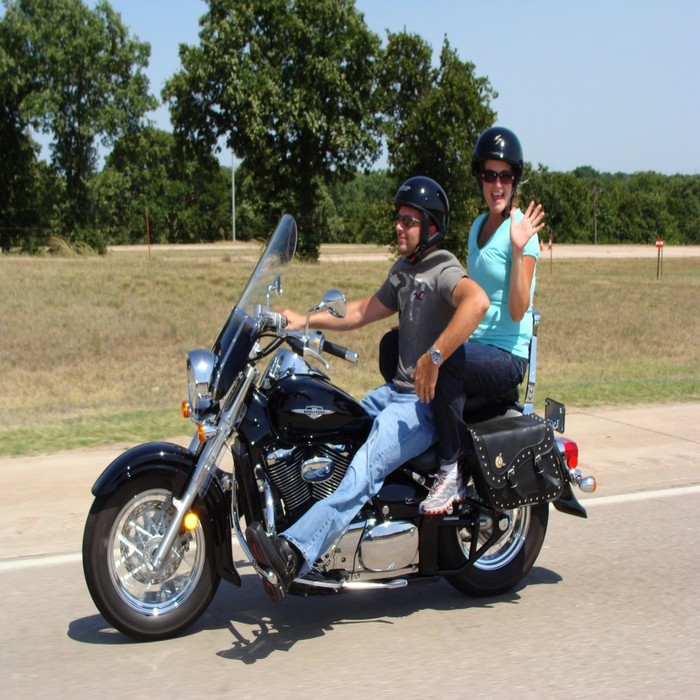h: (391, 175, 455, 270), (471, 123, 523, 209)
